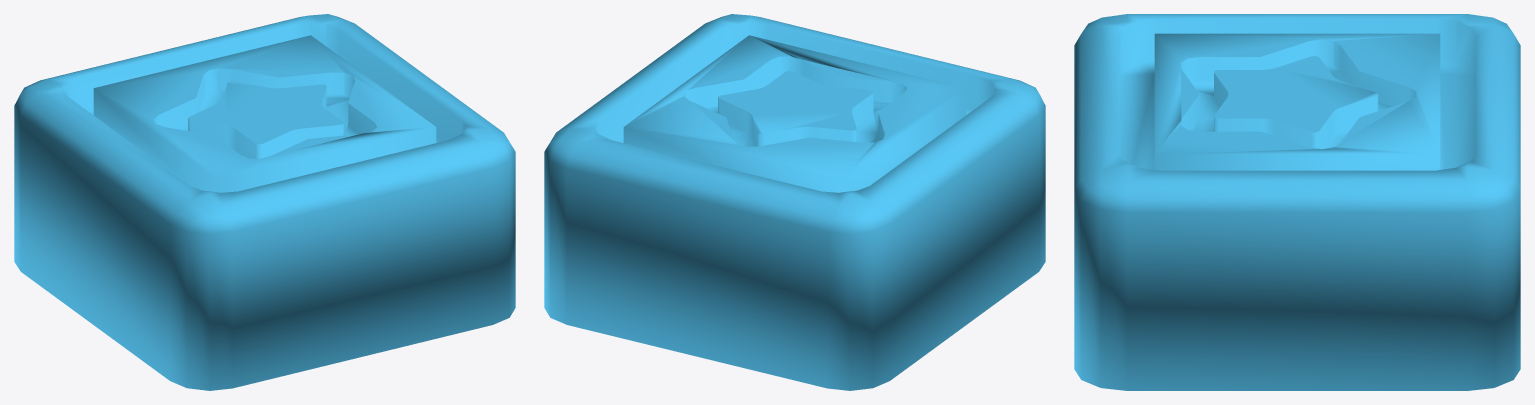
File: tile_wall.glb
3 views of the same model, side by side, from view 1: azimuth 30°, elevation 25°; view 2: azimuth 150°, elevation 25°; view 3: azimuth 270°, elevation 25° (orthographic). The views are drawn at different scales.
Parts seen in each view (by area): view 1: Cube.002; view 2: Cube.002; view 3: Cube.002.
Part boxes in pixels (<box>): Cube.002: <box>14,14,515,390</box>; Cube.002: <box>544,14,1045,390</box>; Cube.002: <box>1074,14,1520,390</box>.
Bounding box in the file's own units: 1 × 0.5 × 1.
